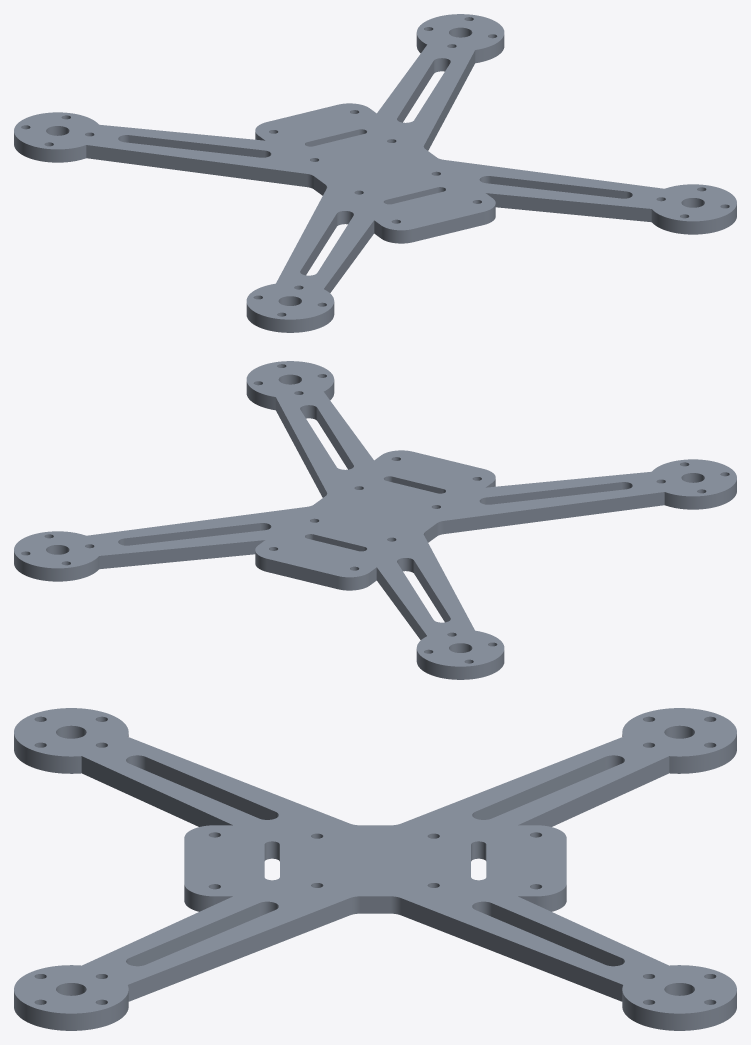
The model's file is step-4.glb.
The picture shows the model from 3 angles, top to bottom: view 1: azimuth 30°, elevation 25°; view 2: azimuth 150°, elevation 25°; view 3: azimuth 270°, elevation 25°; orthographic projection. The views are drawn at different scales.
Visible parts, largest first — view 1: face_3462520fd5905184c287, face_1eca755a6b4b61118afb, face_26f04b5ba8c4c64ad49c, face_4f3c9539508e3cad428e, face_9bbac5e47ae6c59cab32, face_1652ee47c2ff05429bd9, face_9ae437875b5503ccbd1f, face_721785cbc0f2ac752816, face_30252e9dc4903821870c, face_97546d7d8c22b6db1eca, face_203e33fe93fe7c0330a2, face_a346b2020efb87b89e30; view 2: face_3462520fd5905184c287, face_c32ef5f191d23a5f25ee, face_328ebcda5ebc6377554e, face_721785cbc0f2ac752816, face_a346b2020efb87b89e30, face_b1caf8c0f2c565efb912, face_0d98b20e4464964cb72a, face_4f3c9539508e3cad428e, face_7ceab784dc5cdd2fa632, face_104e0ba5e9348109e449, face_d9580afbd3a582c25e43, face_9bbac5e47ae6c59cab32; view 3: face_3462520fd5905184c287, face_104e0ba5e9348109e449, face_97546d7d8c22b6db1eca, face_203e33fe93fe7c0330a2, face_d9580afbd3a582c25e43, face_9bbac5e47ae6c59cab32, face_a346b2020efb87b89e30, face_95f81838454b3e982345, face_c549f62dfaea31d1cc0a, face_27060e96a25d49f82c0a, face_9ce7fff84eb98719cd72, face_4f3c9539508e3cad428e (+2 smaller).
Boxes of the visible parts, box(x1,y1,x2,y2) form: face_3462520fd5905184c287: box(14, 14, 736, 319); face_1eca755a6b4b61118afb: box(86, 145, 307, 186); face_26f04b5ba8c4c64ad49c: box(486, 193, 651, 222); face_4f3c9539508e3cad428e: box(246, 302, 334, 332); face_9bbac5e47ae6c59cab32: box(651, 204, 736, 234); face_1652ee47c2ff05429bd9: box(490, 176, 626, 198); face_9ae437875b5503ccbd1f: box(129, 135, 264, 157); face_721785cbc0f2ac752816: box(14, 133, 86, 162); face_30252e9dc4903821870c: box(413, 212, 483, 242); face_97546d7d8c22b6db1eca: box(424, 50, 475, 150); face_203e33fe93fe7c0330a2: box(324, 220, 374, 292); face_a346b2020efb87b89e30: box(416, 33, 504, 63); face_3462520fd5905184c287: box(14, 361, 736, 666); face_c32ef5f191d23a5f25ee: box(443, 492, 664, 533); face_328ebcda5ebc6377554e: box(99, 540, 264, 569); face_721785cbc0f2ac752816: box(416, 649, 504, 679); face_a346b2020efb87b89e30: box(14, 551, 99, 581); face_b1caf8c0f2c565efb912: box(124, 523, 260, 545); face_0d98b20e4464964cb72a: box(486, 482, 621, 504); face_4f3c9539508e3cad428e: box(664, 480, 736, 509); face_7ceab784dc5cdd2fa632: box(267, 559, 337, 589); face_104e0ba5e9348109e449: box(275, 397, 326, 497); face_d9580afbd3a582c25e43: box(376, 567, 426, 639); face_9bbac5e47ae6c59cab32: box(246, 380, 334, 410); face_3462520fd5905184c287: box(14, 708, 736, 1013); face_104e0ba5e9348109e449: box(128, 898, 349, 1001); face_97546d7d8c22b6db1eca: box(401, 898, 622, 1001); face_203e33fe93fe7c0330a2: box(81, 756, 232, 826); face_d9580afbd3a582c25e43: box(518, 756, 669, 826); face_9bbac5e47ae6c59cab32: box(14, 991, 128, 1030); face_a346b2020efb87b89e30: box(622, 991, 736, 1030); face_95f81838454b3e982345: box(129, 903, 259, 966); face_c549f62dfaea31d1cc0a: box(491, 903, 621, 966); face_27060e96a25d49f82c0a: box(145, 757, 275, 819); face_9ce7fff84eb98719cd72: box(475, 757, 605, 819); face_4f3c9539508e3cad428e: box(14, 734, 128, 773).
Size of the model in its own units: 0.1891 by 0.005 by 0.1891.
